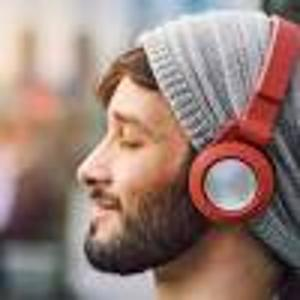Headphones: (185, 1, 300, 226)
